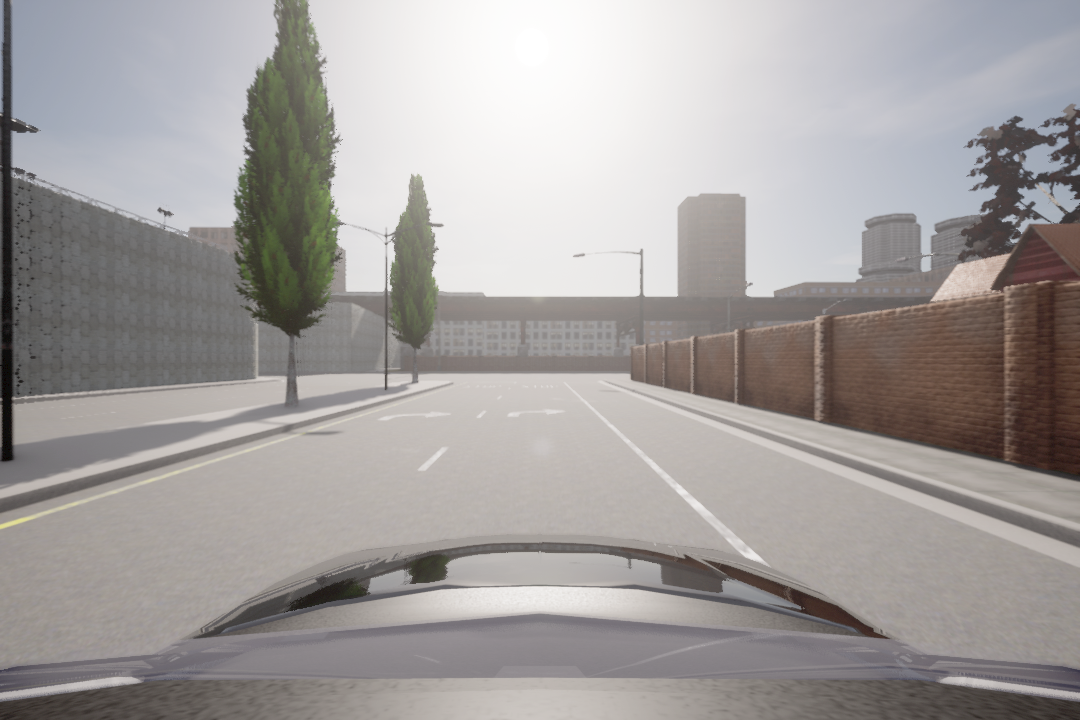RoadSign_right: (379, 410, 456, 428), (502, 404, 564, 418)
